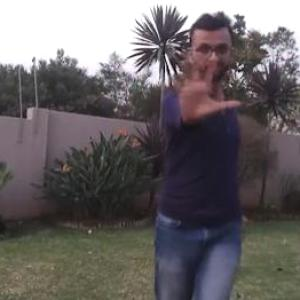follow_hand: (161, 42, 245, 127)
